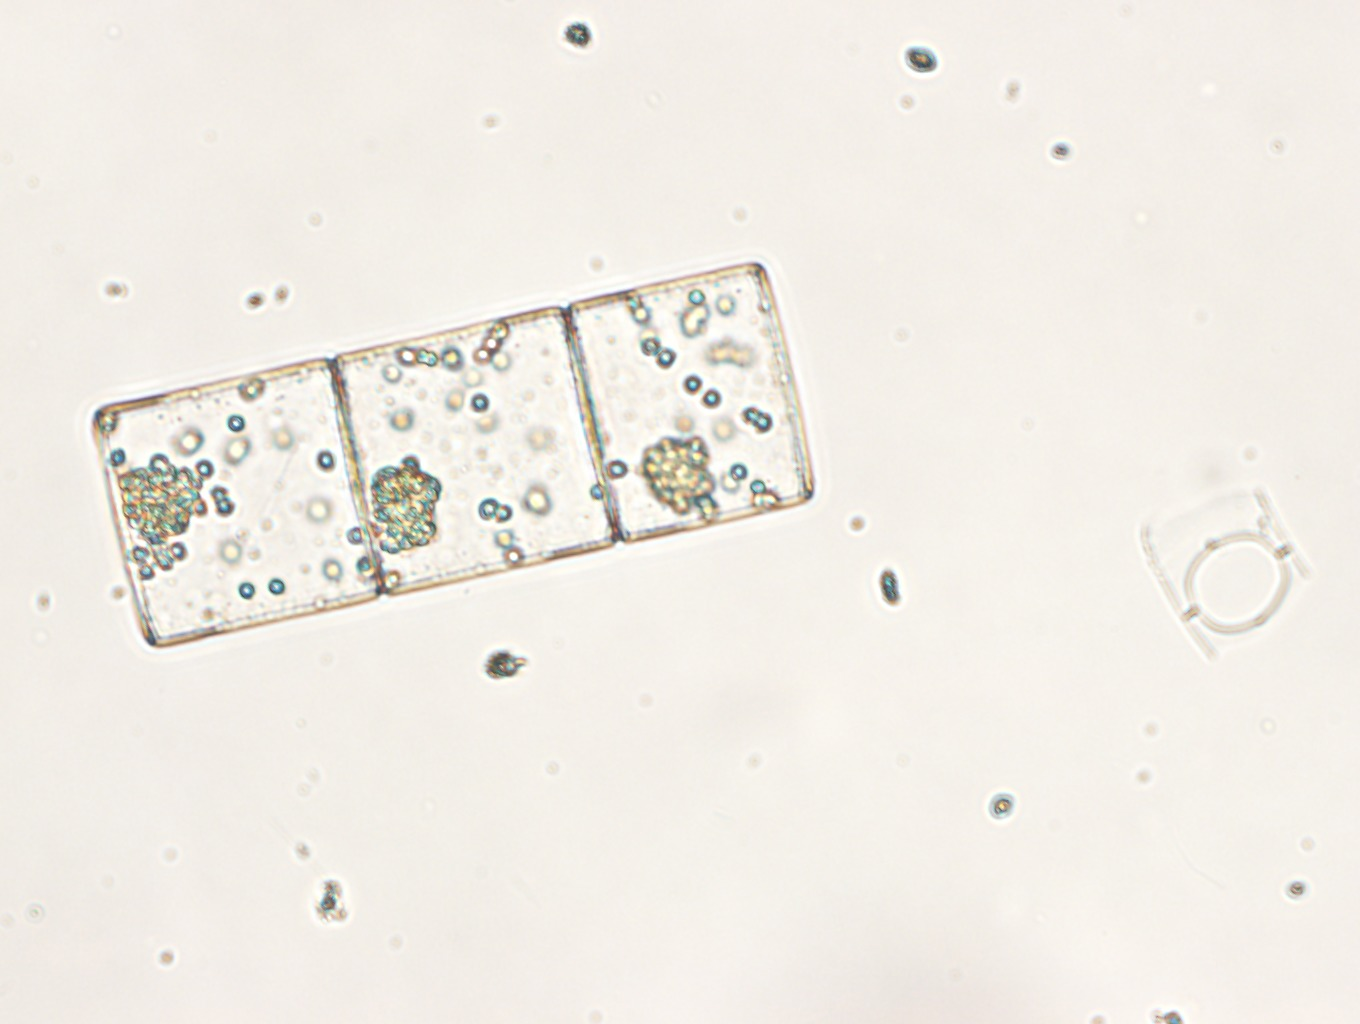eucampia: (1143, 490, 1309, 665)
guinardia flaccida: (92, 261, 815, 648)
